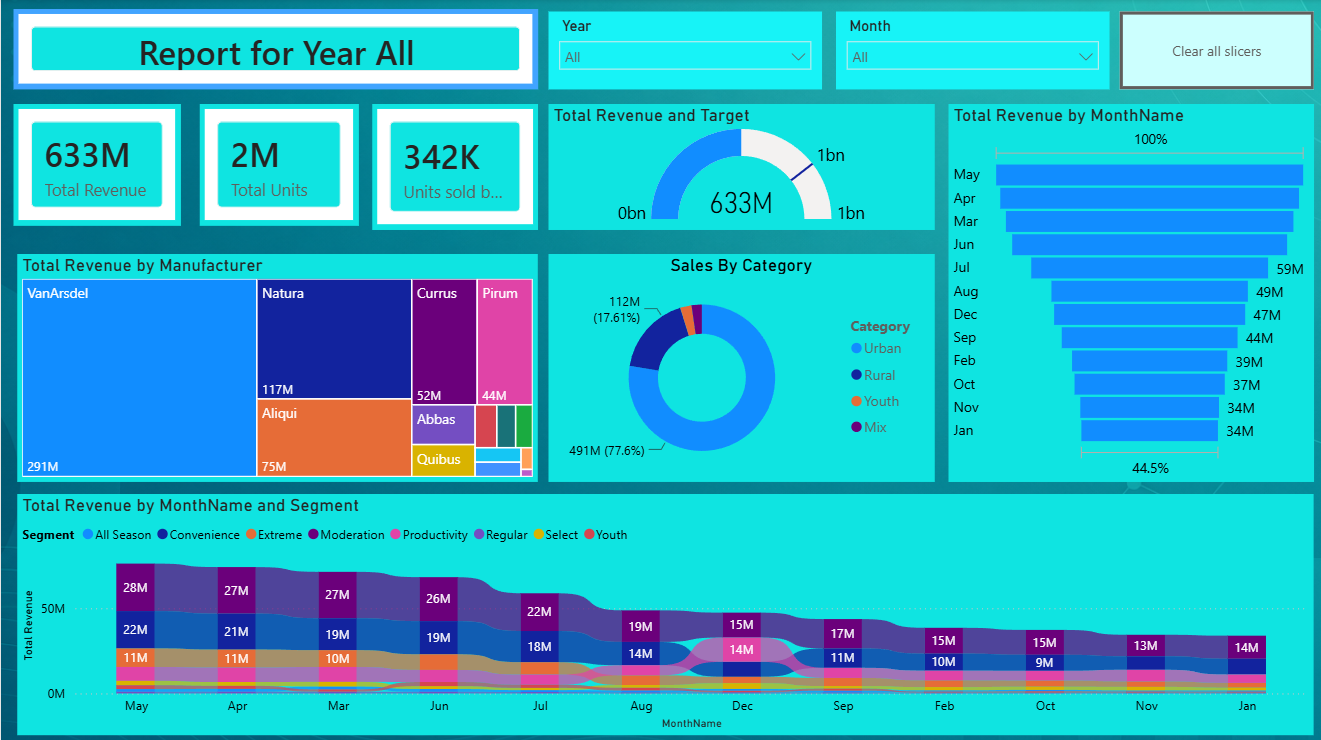

The dashboard page shown, as its layout file describes it:
{"tool":"powerbi","page":{"name":"KPI Reports","canvas":[1280,720],"ordinal":1},"visuals":[{"type":"cardVisual","fields":{"Data":["Sales Data.Total Revenue"]},"box":[12.5,101.2,161.2,117.5],"z":0},{"type":"cardVisual","fields":{"Data":["Sales Data.Total Units"]},"box":[191.2,101.2,153.8,117.5],"z":1000},{"type":"cardVisual","fields":{"Data":["Sales Data.Units sold by Vansardel"]},"box":[358.8,101.2,160,121.2],"z":2000},{"type":"treemap","fields":{"Values":["Sales Data.Total Revenue"],"Group":["bi_manufacturer.Manufacturer"]},"box":[16.2,246.2,502.5,220],"z":3000},{"type":"ribbonChart","fields":{"Category":["bi_date.MonthName"],"Y":["Sales Data.Total Revenue"],"Series":["bi_product.Segment"]},"box":[16.2,477.5,1251.2,232.5],"z":4000},{"type":"donutChart","title":"Sales By Category","fields":{"Y":["Sales Data.Total Revenue"],"Category":["bi_product.Category"]},"box":[528.8,246.2,372.5,220],"z":5000},{"type":"gauge","fields":{"Y":["Sales Data.Total Revenue"],"TargetValue":["Sales Data.Target"]},"box":[528.8,101.2,372.5,121.2],"z":6000},{"type":"funnel","fields":{"Category":["bi_date.MonthName"],"Y":["Sales Data.Total Revenue"]},"box":[915,101.2,352.5,365],"z":7000},{"type":"slicer","fields":{"Values":["bi_date.Year"]},"box":[528.8,12.5,263.8,75],"z":8000},{"type":"slicer","fields":{"Values":["bi_date.Month"]},"box":[806.2,12.5,263.8,75],"z":9000},{"type":"cardVisual","fields":{"Data":["Sales Data.Dynamic Title"]},"box":[12.5,10,506.2,77.5],"z":10000},{"type":"actionButton","box":[1080,12.5,187.5,75],"z":11000}]}

Visuals, with their boxes in screenshot pixels (x1, y1, x2, y2), scaled from the page's 1280x720 canvas onto the 1321x740 screenshot:
cardVisual - Sales Data.Total Revenue: 13 104 179 225
cardVisual - Sales Data.Total Units: 197 104 356 225
cardVisual - Sales Data.Units sold by Vansardel: 370 104 535 229
treemap - Sales Data.Total Revenue x bi_manufacturer.Manufacturer: 17 253 535 479
ribbonChart - bi_date.MonthName x Sales Data.Total Revenue: 17 491 1308 730
"Sales By Category" donutChart: 546 253 930 479
gauge - Sales Data.Total Revenue x Sales Data.Target: 546 104 930 229
funnel - bi_date.MonthName x Sales Data.Total Revenue: 944 104 1308 479
slicer - bi_date.Year: 546 13 818 90
slicer - bi_date.Month: 832 13 1104 90
cardVisual - Sales Data.Dynamic Title: 13 10 535 90
actionButton: 1115 13 1308 90
